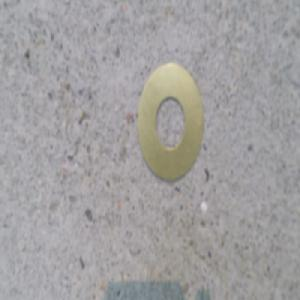Washer: (133, 59, 202, 181)
